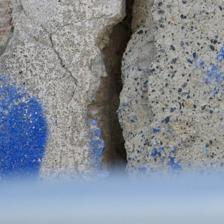Crack: (84, 3, 156, 182)
